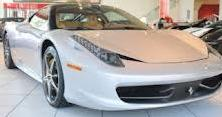front_view: (67, 23, 222, 114)
headlight: (74, 31, 134, 72)
side_glass: (24, 1, 56, 37)
